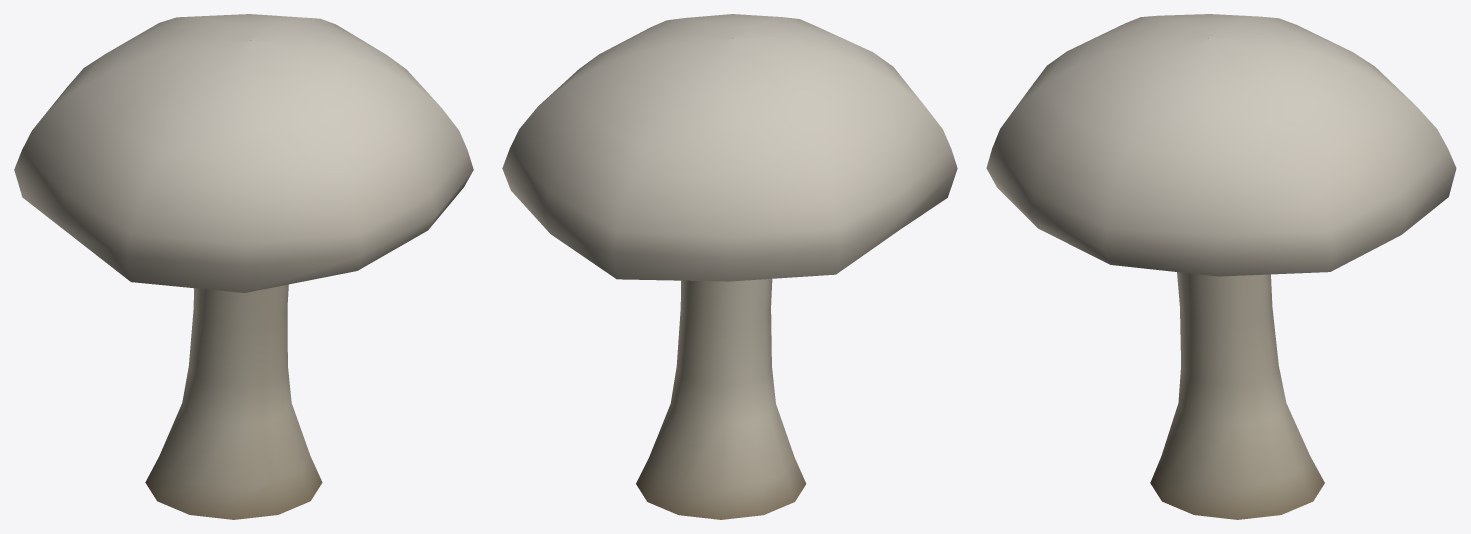
File: mushroom-glow-a.glb
3 views of the same model, side by side, from view 1: azimuth 30°, elevation 25°; view 2: azimuth 150°, elevation 25°; view 3: azimuth 270°, elevation 25° (orthographic). The views are drawn at different scales.
Parts seen in each view (by area): view 1: mushroom-glow-a; view 2: mushroom-glow-a; view 3: mushroom-glow-a.
Part boxes in pixels (<box>): mushroom-glow-a: <box>14,14,473,519</box>; mushroom-glow-a: <box>502,14,957,519</box>; mushroom-glow-a: <box>986,14,1456,519</box>.
Size of the model in its own units: 0.2154 by 0.25 by 0.2389.
